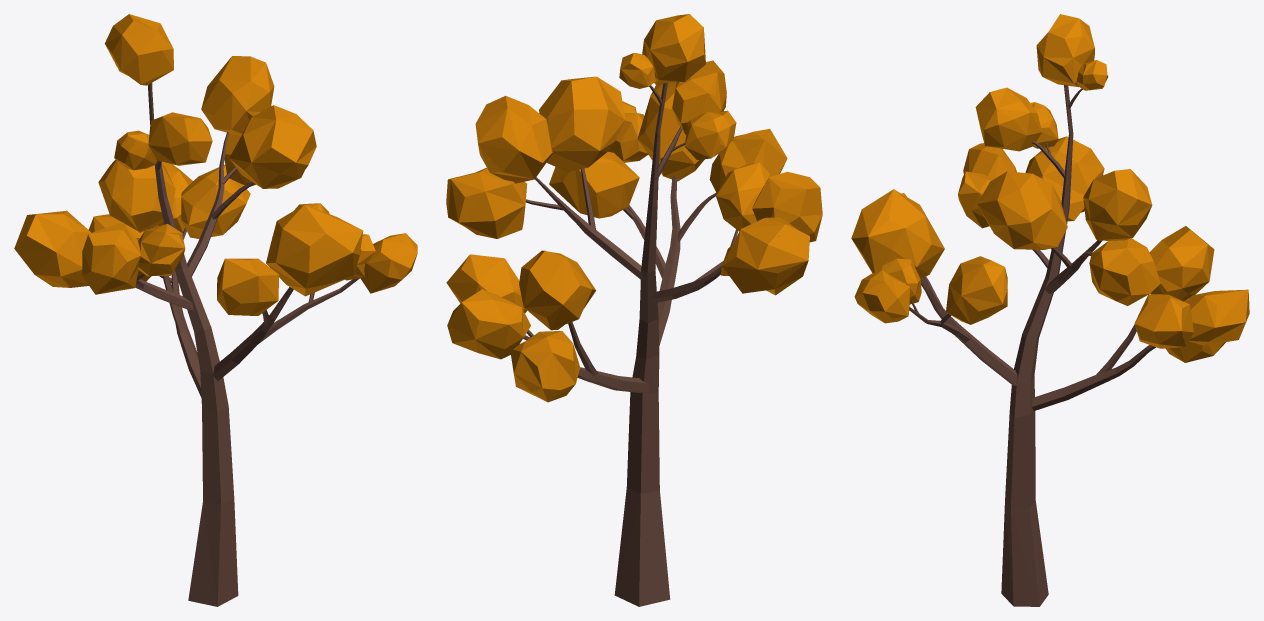
Rendered from fall-tree2.glb.
The picture shows the model from 3 angles, left to right: view 1: azimuth 30°, elevation 25°; view 2: azimuth 150°, elevation 25°; view 3: azimuth 270°, elevation 25°; orthographic projection. The views are drawn at different scales.
Visible parts, largest first — view 1: node_MeshObject1203779584-PolyPaper20; view 2: node_MeshObject1203779584-PolyPaper20; view 3: node_MeshObject1203779584-PolyPaper20.
Part boxes in pixels (x1=…): node_MeshObject1203779584-PolyPaper20: x1=14, y1=14, x2=417, y2=606; node_MeshObject1203779584-PolyPaper20: x1=446, y1=14, x2=822, y2=606; node_MeshObject1203779584-PolyPaper20: x1=851, y1=14, x2=1249, y2=606.
Bounding box in the file's own units: 1.88 × 3.35 × 2.18.
